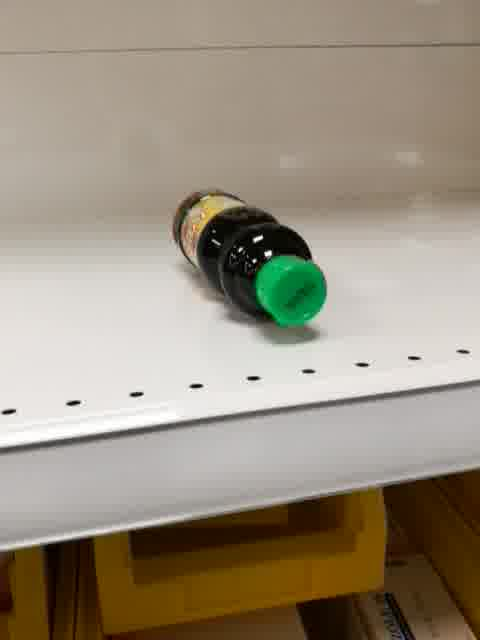cookingoil: (167, 186, 331, 328)
